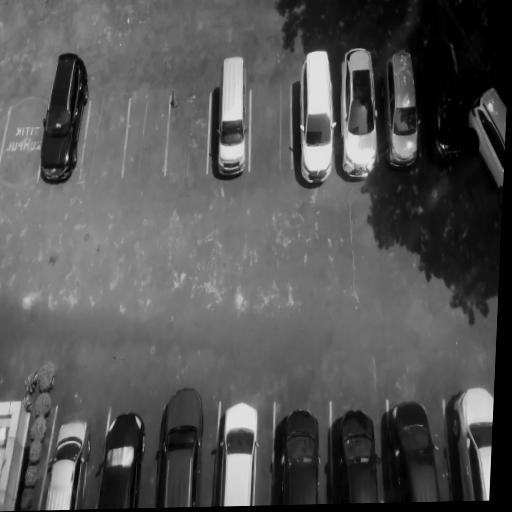Car: (40, 51, 90, 191), (292, 46, 340, 189), (337, 41, 383, 180), (440, 383, 494, 501), (207, 47, 253, 184), (154, 386, 205, 508), (388, 394, 441, 503), (463, 69, 507, 195), (424, 40, 469, 162), (39, 411, 91, 508), (383, 43, 423, 169), (329, 400, 377, 504), (99, 402, 146, 507), (269, 406, 319, 504), (212, 401, 258, 507)
Space Available: (247, 70, 293, 182), (124, 81, 169, 190), (84, 83, 128, 186), (168, 78, 211, 183), (0, 83, 44, 181)
